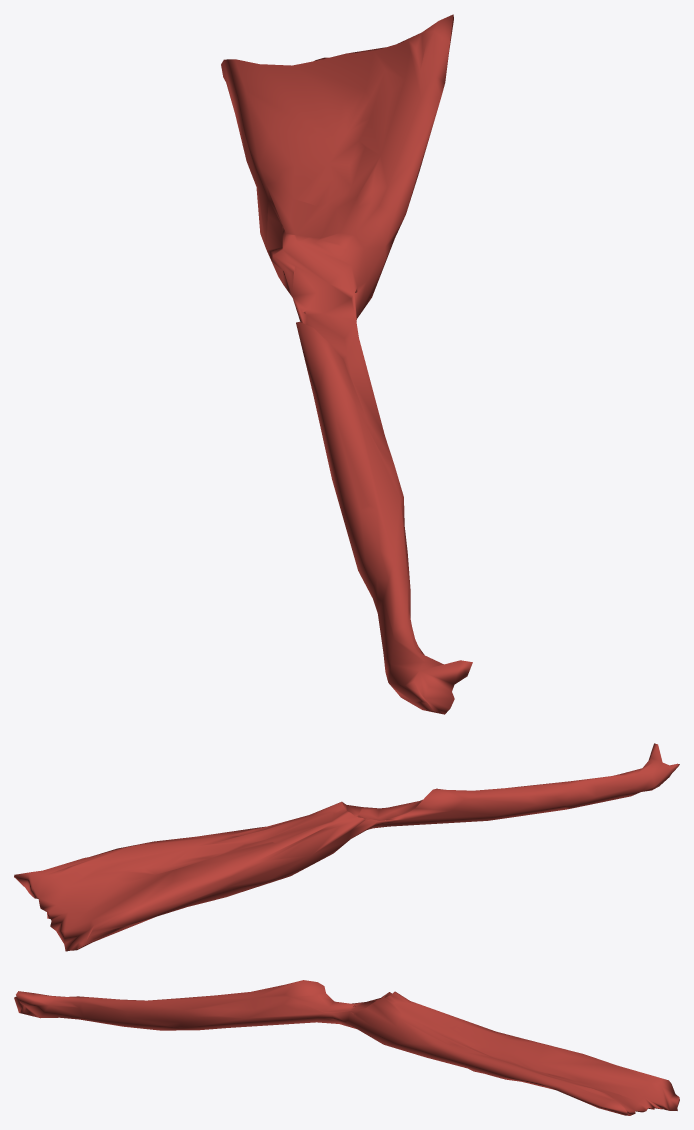
Rendered from musculos-abductor-digiti-minimi-of-foot-r.glb.
3 views of the same model, one above another, from view 1: azimuth 30°, elevation 25°; view 2: azimuth 150°, elevation 25°; view 3: azimuth 270°, elevation 25° (orthographic). The views are drawn at different scales.
Visible parts, largest first — view 1: Abductor digiti minimi of foot.r; view 2: Abductor digiti minimi of foot.r; view 3: Abductor digiti minimi of foot.r.
Part boxes in pixels (x1,y1,x2,y2): Abductor digiti minimi of foot.r: [221, 14, 472, 714]; Abductor digiti minimi of foot.r: [14, 743, 679, 951]; Abductor digiti minimi of foot.r: [14, 980, 679, 1115].
Bounding box in the file's own units: 0.071 × 0.0165 × 0.1274.
